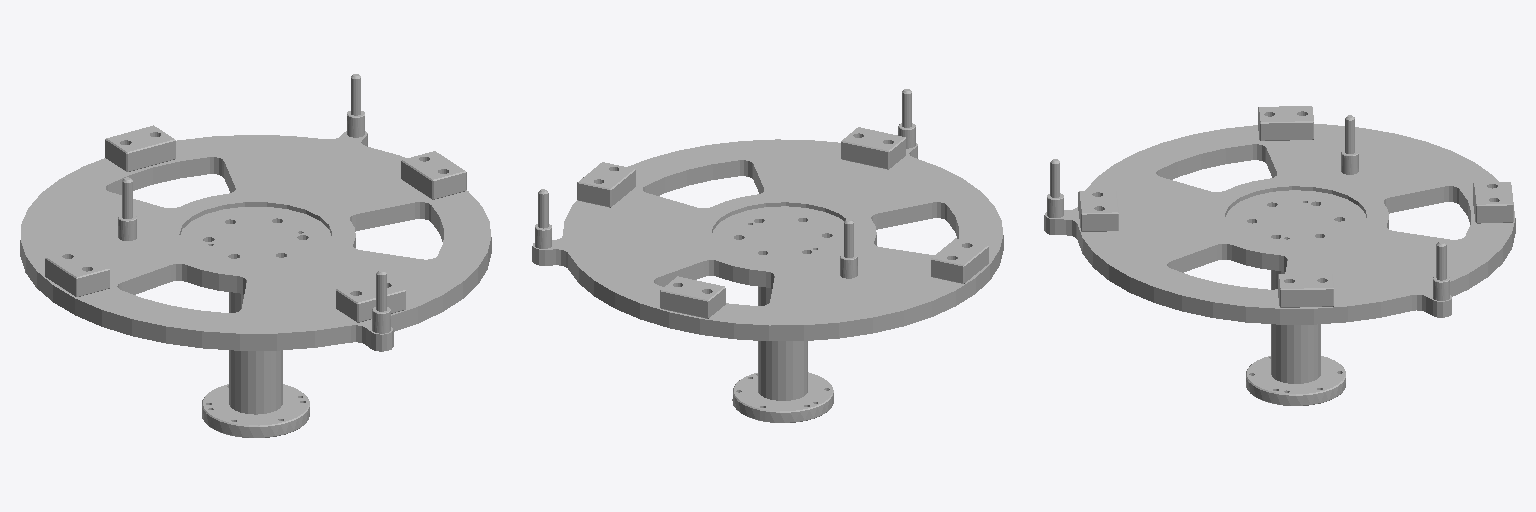
URDF robot description (zhuanpanxz):
<?xml version="1.0" encoding="utf-8"?>
<!-- This URDF was automatically created by SolidWorks to URDF Exporter! Originally created by Stephen Brawner (brawner@gmail.com) 
     Commit Version: 1.6.0-4-g7f85cfe  Build Version: 1.6.7995.38578
     For more information, please see http://wiki.ros.org/sw_urdf_exporter -->
<robot
  name="zhuanpanxz">
  <link name="world">
	</link>
  <link
    name="base_link">
    <inertial>
      <origin
        xyz="-0.065023 -0.011343 0.032795"
        rpy="0 0 0" />
      <mass
        value="1.0669" />
      <inertia
        ixx="0.0009528"
        ixy="2.0192E-06"
        ixz="7.0714E-06"
        iyy="0.0010075"
        iyz="1.0811E-06"
        izz="0.0014735" />
    </inertial>
    <visual>
      <origin
        xyz="0 0 0"
        rpy="0 0 0" />
      <geometry>
        <mesh
          filename="meshes/base_link.STL" />
      </geometry>
      <material
        name="">
        <color
          rgba="0.75294 0.75294 0.75294 1" />
      </material>
    </visual>
    <collision>
      <origin
        xyz="0 0 0"
        rpy="0 0 0" />
      <geometry>
        <mesh
          filename="meshes/base_link.STL" />
      </geometry>
    </collision>
  </link>
  <link
    name="link1">
    <inertial>
      <origin
        xyz="0.00085085 -0.00043025 0.13965"
        rpy="0 0 0" />
      <mass
        value="2.5359" />
      <inertia
        ixx="0.020393"
        ixy="-0.00017948"
        ixz="-4.6183E-08"
        iyy="0.020126"
        iyz="2.3353E-08"
        izz="0.035702" />
    </inertial>
    <visual>
      <origin
        xyz="0 0 0"
        rpy="0 0 0" />
      <geometry>
        <mesh
          filename="meshes/link1.STL" />
      </geometry>
      <material
        name="">
        <color
          rgba="0.75294 0.75294 0.75294 1" />
      </material>
    </visual>
    <collision>
      <origin
        xyz="0 0 0"
        rpy="0 0 0" />
      <geometry>
        <mesh
          filename="meshes/link1.STL" />
      </geometry>
    </collision>
  </link>
  <joint
    name="joint1"
    type="revolute">
    <origin
      xyz="0 0 0.0725"
      rpy="0 0 0" />
    <parent
      link="base_link" />
    <child
      link="link1" />
    <axis
      xyz="0 0 1" />
    <limit
      lower="0"
      upper="6.283"
      effort="10"
      velocity="1" />
  </joint>
  <joint name="Base_Joint" type="fixed">
		<axis xyz="0.0 0.0 0.0" />
		<parent link="world" />
		<child link="base_link" />
		<origin rpy="0.0 0.0 0.0" xyz="0.0 0.0 0.0" />
		<!-- <limit effort="0" lower="-6.2" upper="6.2" velocity="17.2" acceleration="71" jerk="590" /> -->
	</joint> 
</robot>

--- Render facts (derived) ---
The picture shows the robot from 3 angles, left to right: view 1: azimuth 30°, elevation 25°; view 2: azimuth 150°, elevation 25°; view 3: azimuth 270°, elevation 25°; orthographic projection.
Robot: zhuanpanxz — 3 links, 2 joints (1 revolute, 1 fixed); root link world; default pose: every joint at zero.
Visible links, largest first — view 1: link1; view 2: link1; view 3: link1.
Link boxes in pixels (<box>): link1: <box>20,74,491,437</box>; link1: <box>532,89,1003,422</box>; link1: <box>1044,106,1515,405</box>.
Bounding box of the posed robot: 0.3994 × 0.4292 × 0.225 m (x, y, z).
1 mesh visuals loaded from 2 distinct referenced files (1 binary STL); not drawn: 1 (reference not matched to a file when rendering).
